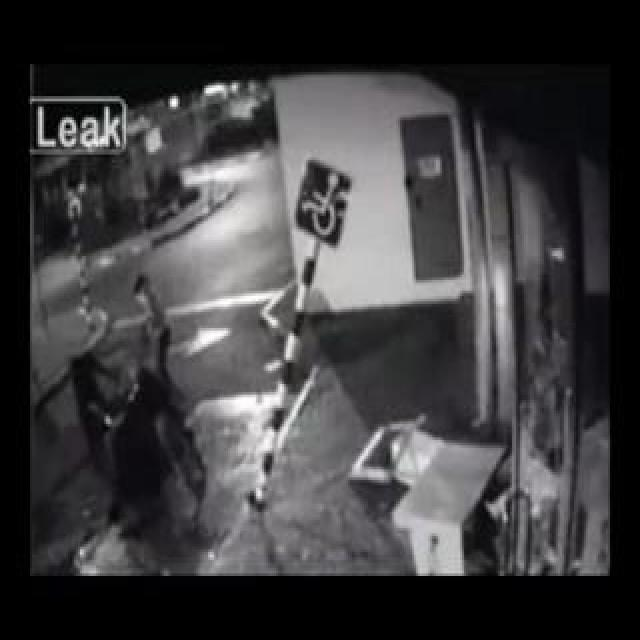thief: (75, 282, 212, 491)
